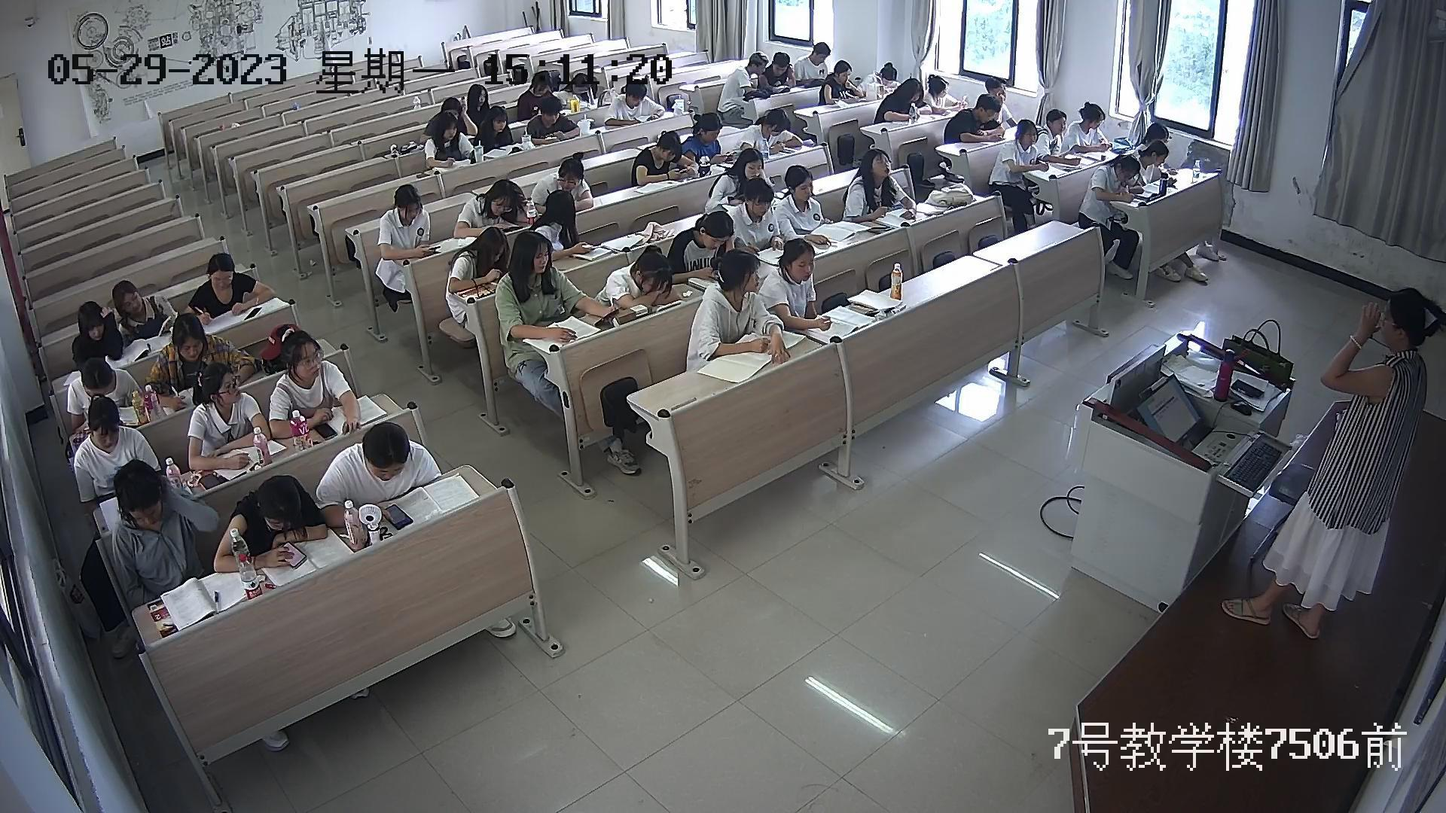Bend Over The Desk: (625, 247, 692, 307), (539, 154, 603, 206)
Look Around: (547, 196, 588, 247)
Normal: (843, 153, 916, 224)
Stand Up: (1294, 271, 1437, 681)
Wave: (104, 307, 124, 359), (462, 97, 477, 134)
phone: (377, 497, 413, 532), (274, 539, 306, 575), (600, 304, 621, 335), (773, 138, 795, 153), (502, 218, 521, 235), (719, 148, 736, 166), (676, 165, 693, 182), (424, 242, 442, 257)
